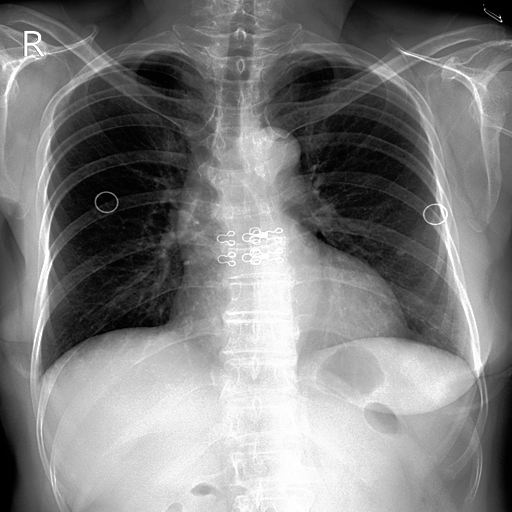Consolidation: (246, 131, 308, 182)
Nodule/Mass: (164, 291, 410, 335)
